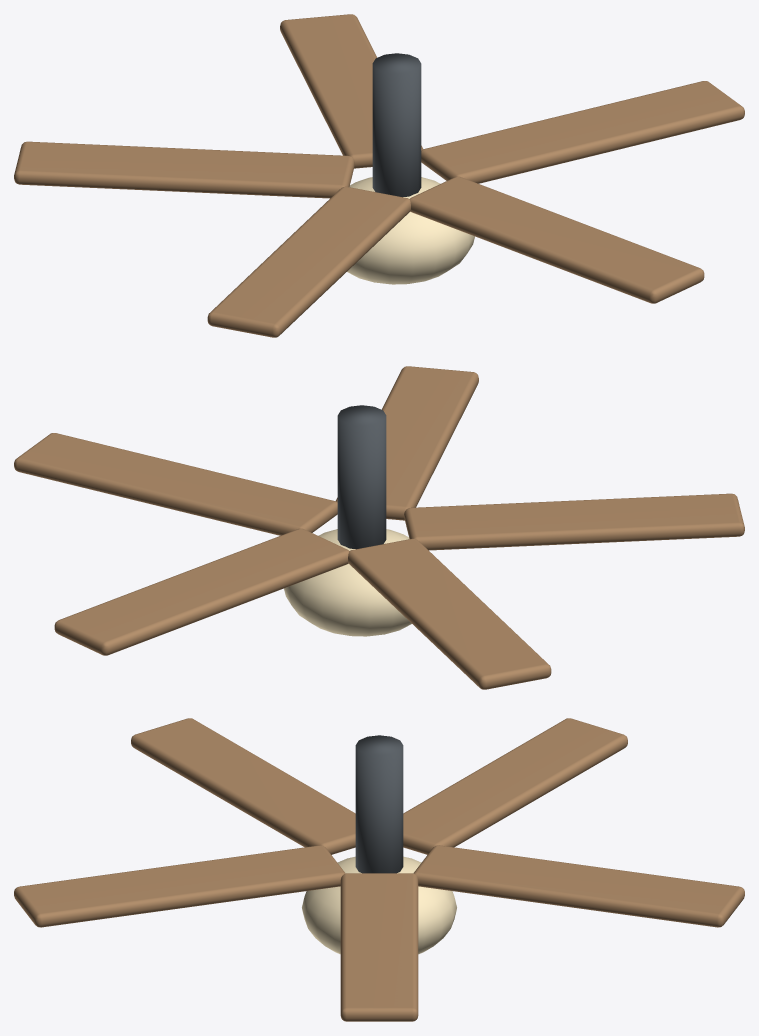
File: atelier-ceiling-fan-with-light.glb
The picture shows the model from 3 angles, top to bottom: view 1: azimuth 30°, elevation 25°; view 2: azimuth 150°, elevation 25°; view 3: azimuth 270°, elevation 25°; orthographic projection. The views are drawn at different scales.
Parts seen in each view (by area): view 1: legs.134, metal.090, bulb.024; view 2: legs.134, metal.090, bulb.024; view 3: legs.134, metal.090, bulb.024.
Part boxes in pixels (box(x1,y1,x2,y2)): legs.134: box(14, 14, 744, 337); metal.090: box(372, 53, 421, 197); bulb.024: box(347, 177, 474, 284); legs.134: box(14, 366, 744, 689); metal.090: box(337, 405, 386, 549); bulb.024: box(284, 529, 411, 636); legs.134: box(14, 718, 744, 1021); metal.090: box(355, 735, 403, 873); bulb.024: box(302, 856, 456, 954).
Bounding box in the file's own units: 1.16 × 0.38 × 1.22.
